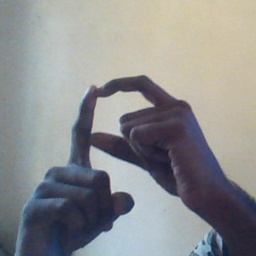D: (63, 70, 187, 189)
